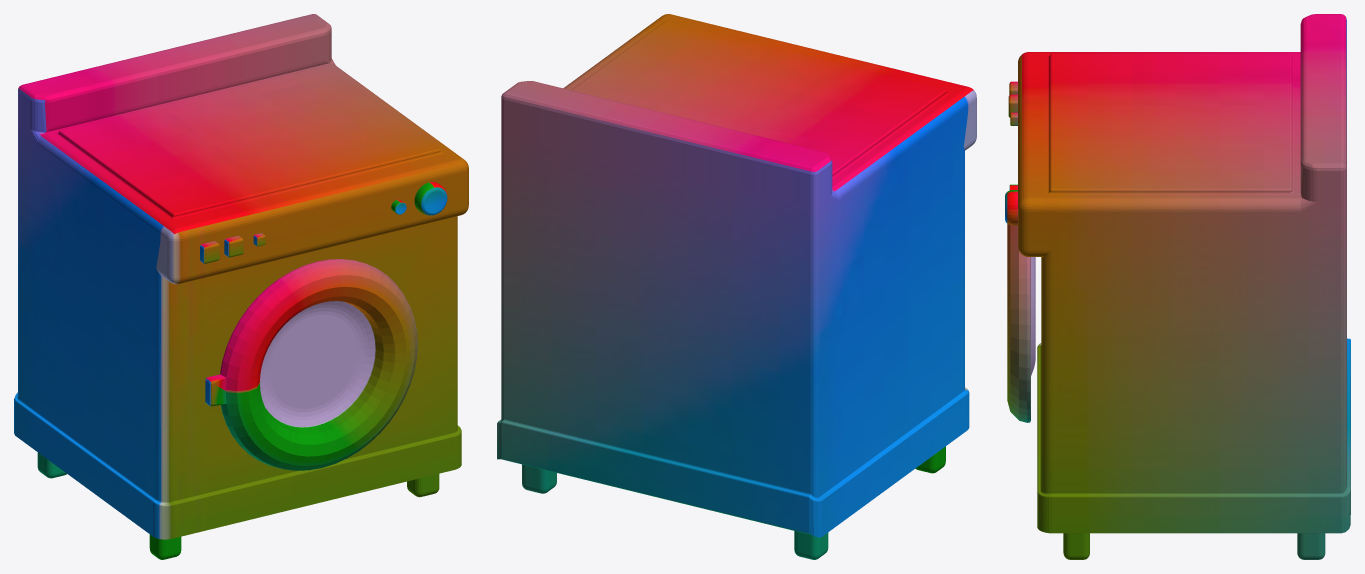
File: pralka.fbx
3 views of the same model, side by side, from view 1: azimuth 30°, elevation 25°; view 2: azimuth 150°, elevation 25°; view 3: azimuth 270°, elevation 25° (orthographic). The views are drawn at different scales.
Parts seen in each view (by area): view 1: drzwiczki; view 2: drzwiczki; view 3: drzwiczki.
Boxes of the visible parts, x1,y1,x2,y2 form: drzwiczki: (14, 14, 468, 559); drzwiczki: (497, 14, 976, 559); drzwiczki: (1005, 14, 1350, 559).
Size of the model in its own units: 204 by 243 by 190.
1 material, 1 textured.
